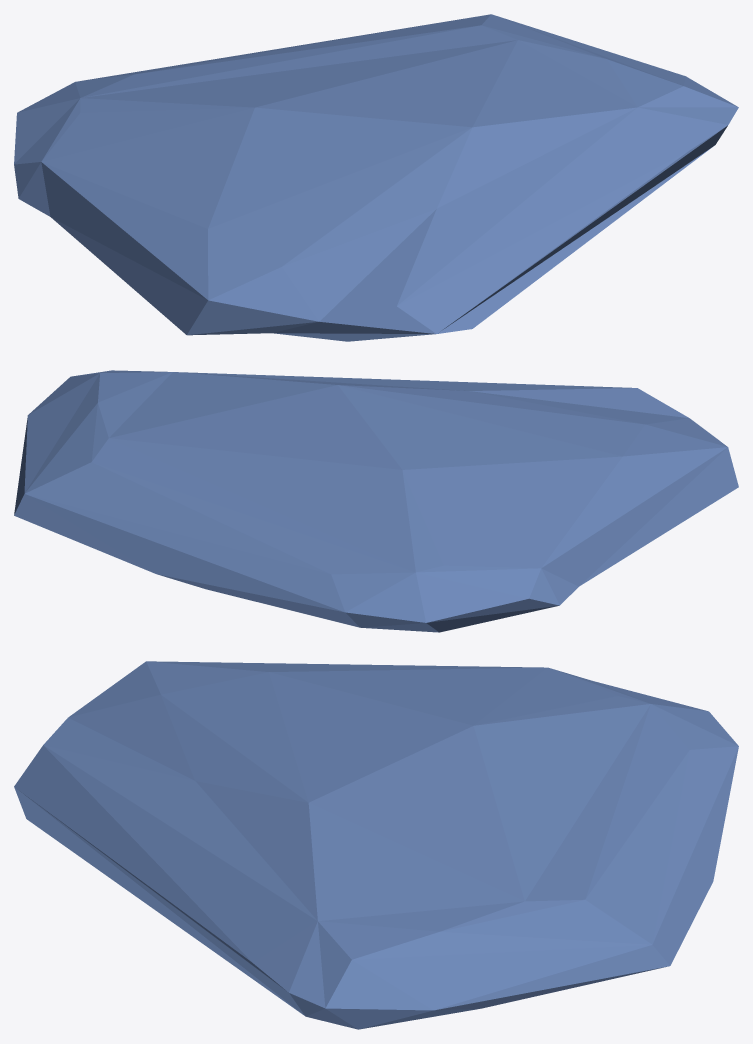
Rendered from Stein 1.glb.
The picture shows the model from 3 angles, top to bottom: view 1: azimuth 30°, elevation 25°; view 2: azimuth 150°, elevation 25°; view 3: azimuth 270°, elevation 25°; orthographic projection. The views are drawn at different scales.
Parts seen in each view (by area): view 1: Stein 1.001; view 2: Stein 1.001; view 3: Stein 1.001.
Boxes of the visible parts, bbox=[...] form: Stein 1.001: bbox=[14, 14, 738, 341]; Stein 1.001: bbox=[14, 370, 738, 632]; Stein 1.001: bbox=[14, 661, 738, 1029].
Size of the model in its own units: 0.505 by 0.0603 by 0.4567.
